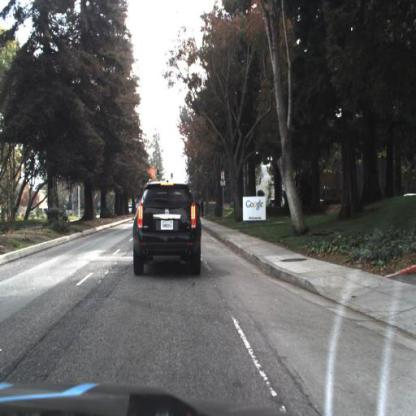car: (132, 179, 202, 277)
trafficLight-Green: (156, 169, 161, 181), (171, 172, 174, 182)
